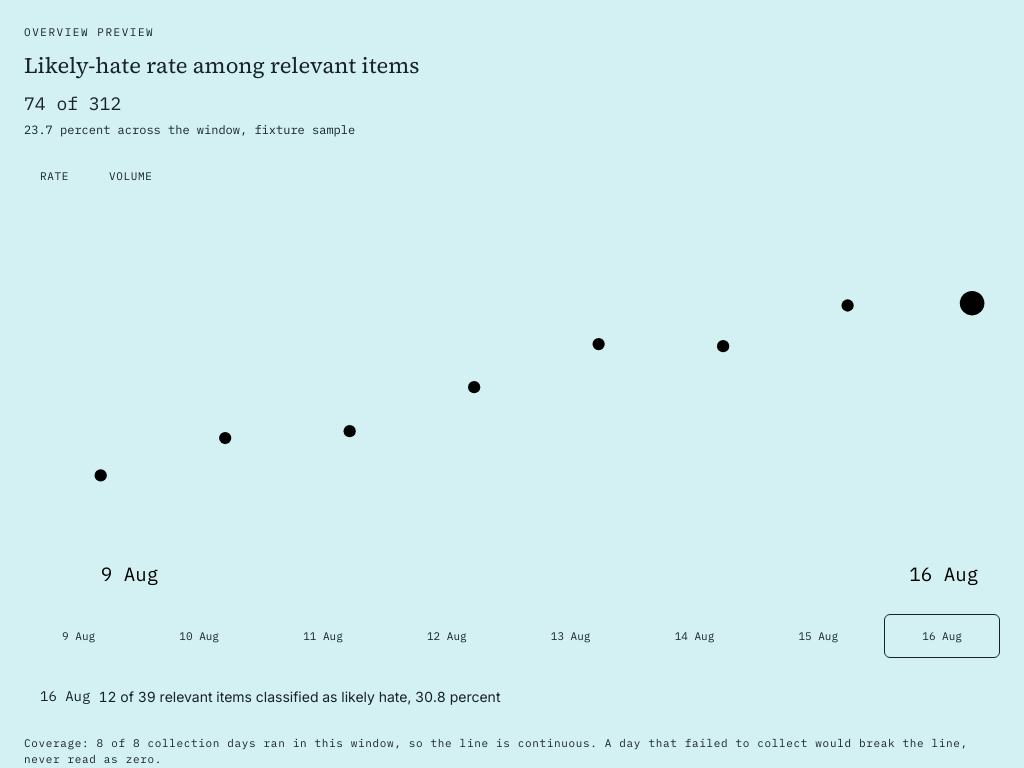
Test case: DashboardPreview › switches the charted metric
Expected: the text "Likely-hate rate among relevant items" is shown, x1=24 y1=50 x2=420 y2=80
Click the button "Volume" at (131, 176), box x1=93 y1=154 x2=169 y2=198
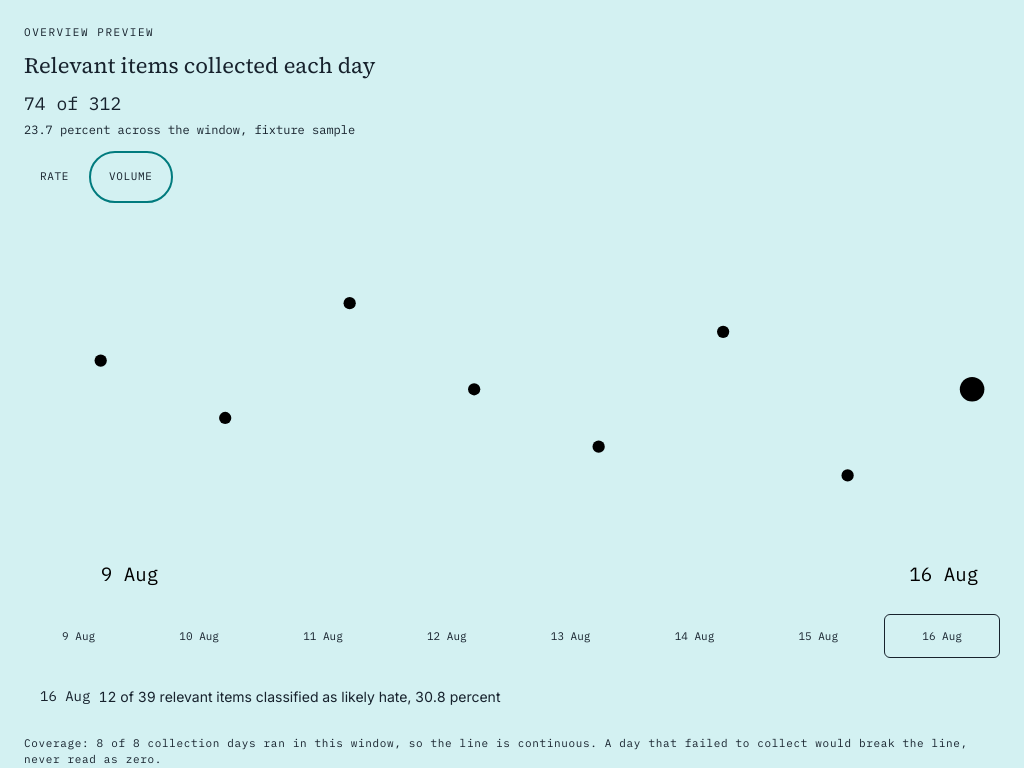
Expected: the text "Relevant items collected each day" is shown, x1=24 y1=50 x2=375 y2=80
